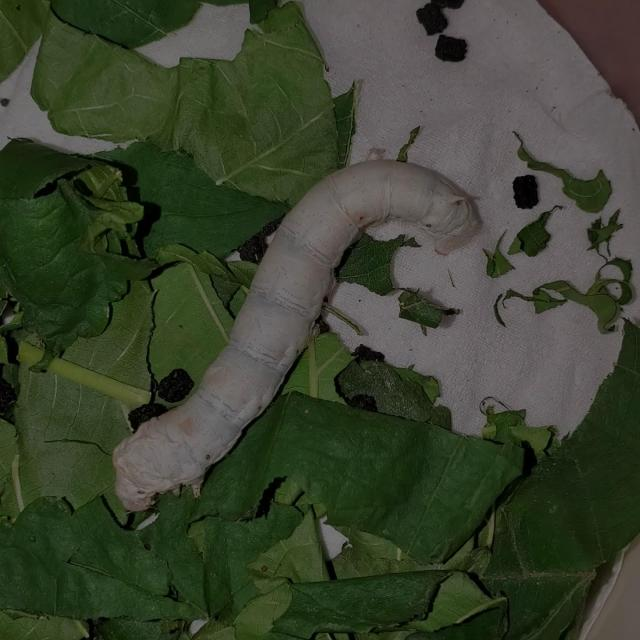Healthy: (83, 129, 490, 540)
